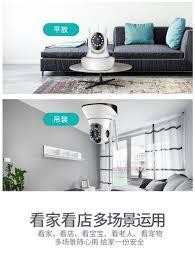maru: (85, 25, 111, 57)
